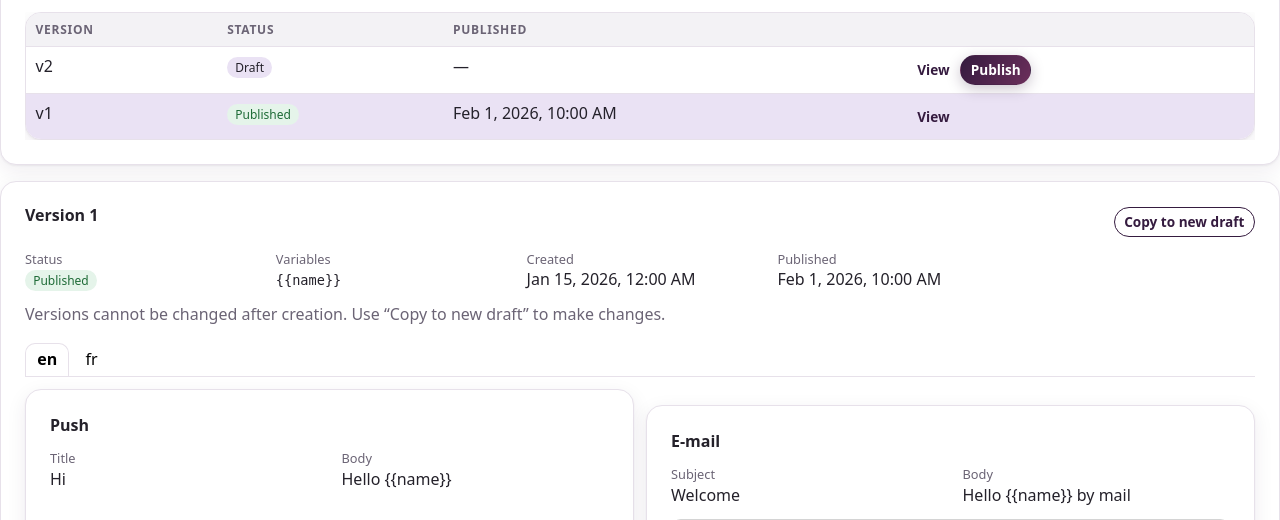
Test: TemplateDetailPage › shows settings, versions and the published version contents per locale
(page scrolled)
Expected: the heading "Version 1" is shown, [25, 206, 98, 226]
Expected: the text "Hello {{name}}" is shown, [342, 468, 452, 490]
Click the tab "fr": (92, 359) [73, 342, 110, 376]
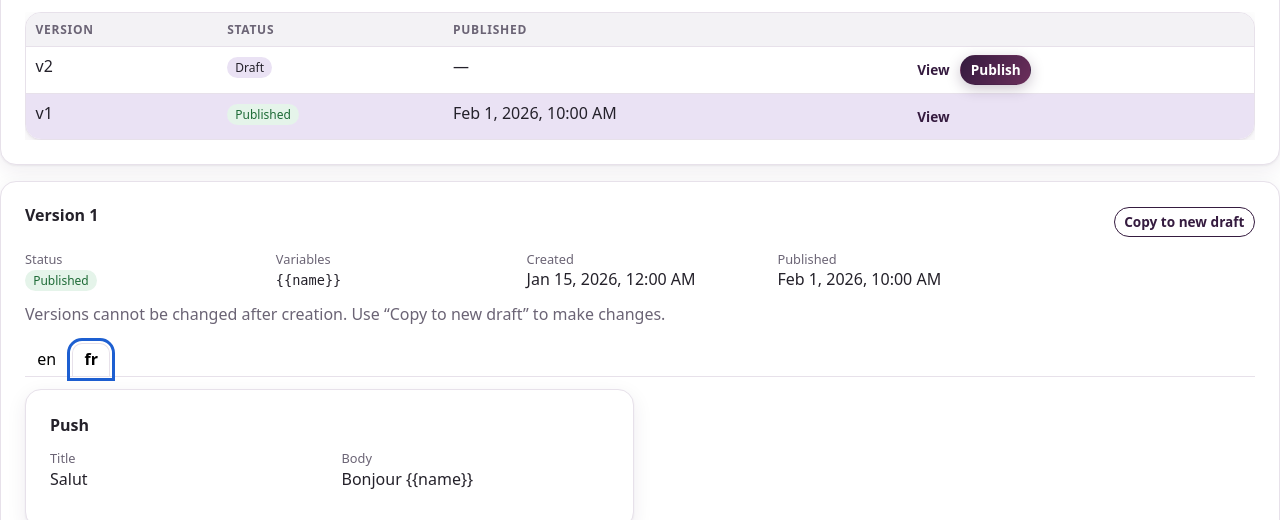
Result: the text "Bonjour {{name}}" is shown at [342, 468, 473, 490]
